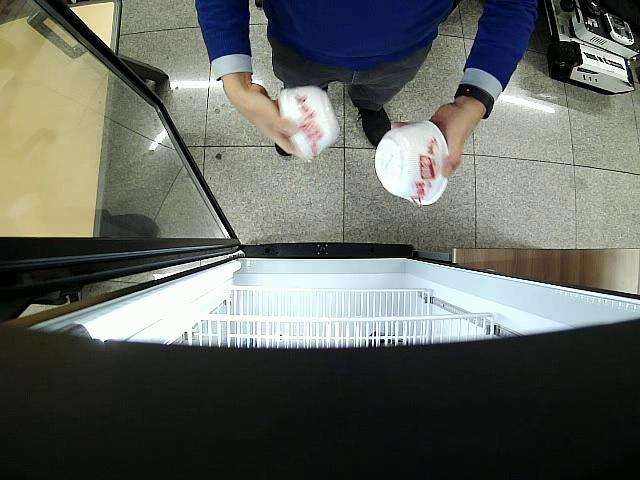00_hand: (392, 103, 475, 178), (222, 84, 298, 155)
09_yukGaeJang: (374, 122, 448, 206), (277, 87, 341, 160)
